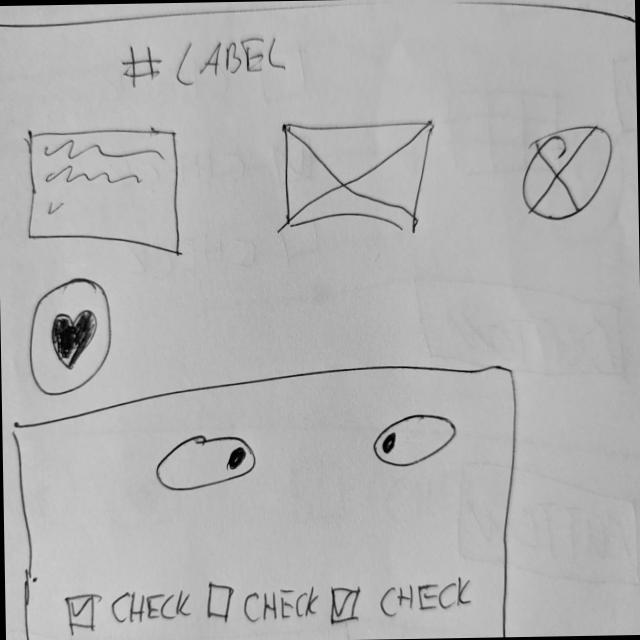checkbox: (326, 575, 476, 630), (62, 582, 193, 632), (202, 578, 321, 630)
container: (8, 357, 522, 640)
icon-button: (24, 272, 114, 398)
image: (278, 116, 436, 240), (518, 118, 616, 226)
label: (118, 30, 288, 89)
textarea: (22, 122, 185, 260)
toggle: (150, 432, 258, 496), (368, 410, 457, 472)
